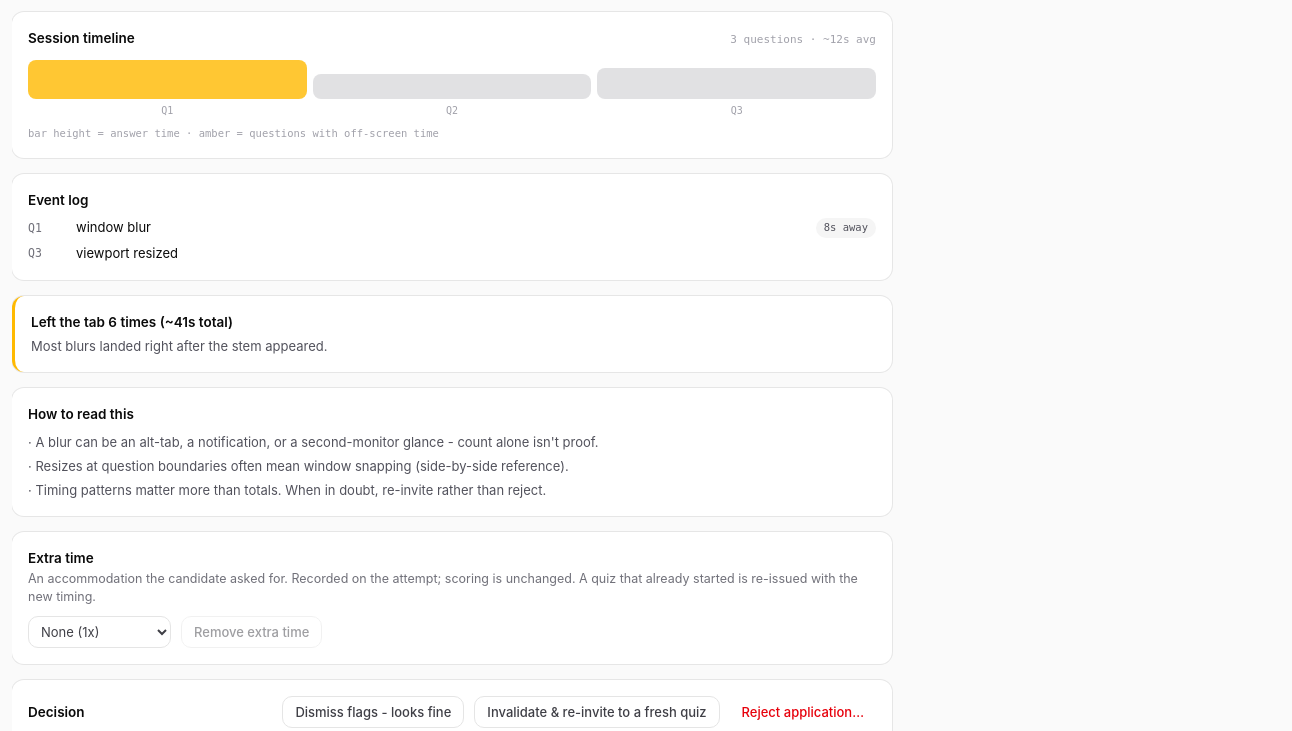
Test case: IntegrityReviewPage › grants extra time only after an explicit confirm
The width and height of the screenshot is (1292, 731).
(page scrolled)
Select "2x per question" in the dropdown named "Extra time" at (100, 632), box [28,616,171,648]
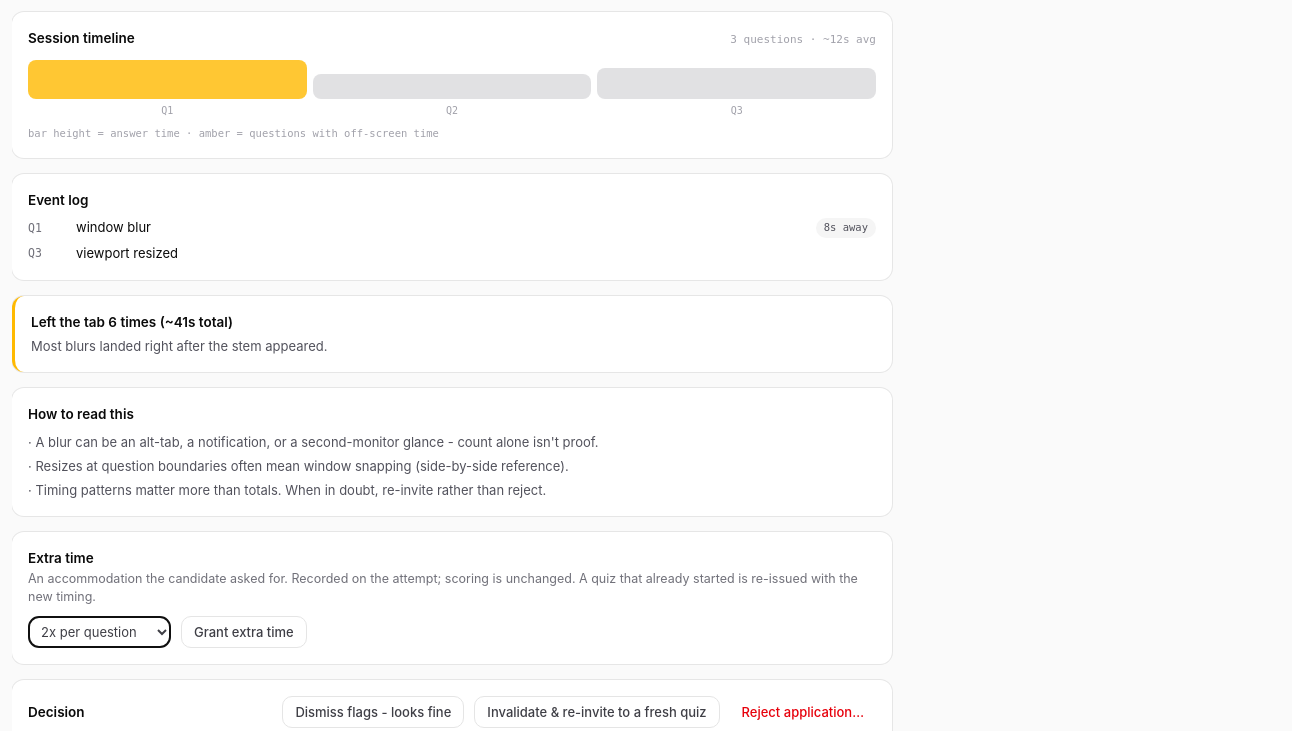
Click the button "Grant extra time" at (244, 632), box [181,616,307,648]
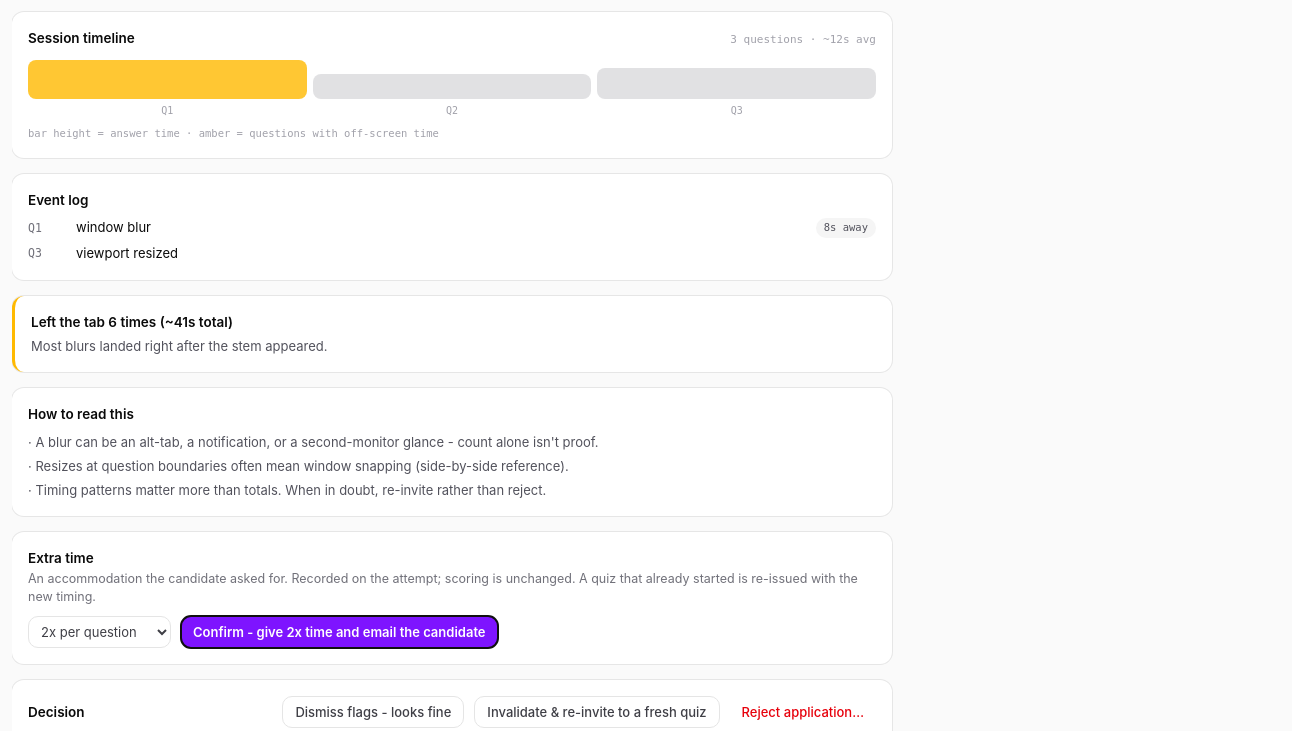
Click the button "Confirm - give 2x time and email the candidate" at (339, 632), box [181,616,498,648]
(page scrolled)
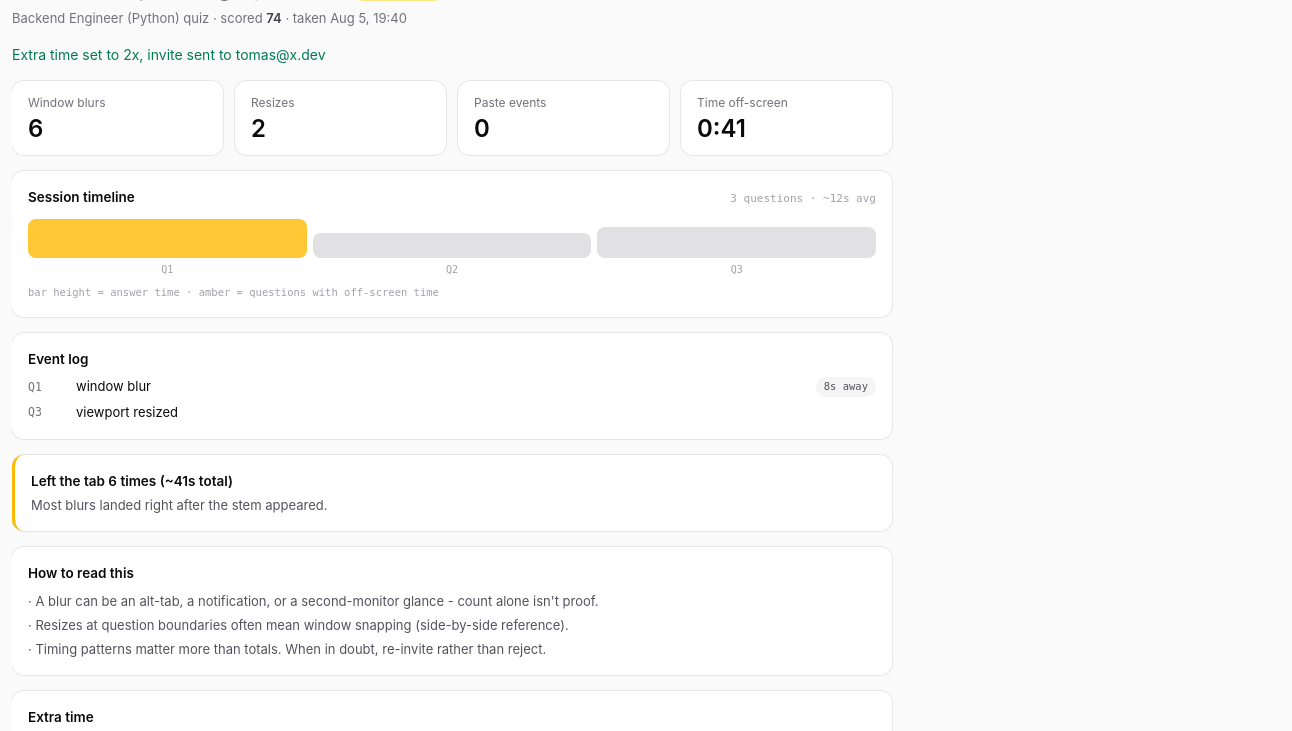
Expected: the message reads "Extra time set to 2x, invite sent to tomas@x.dev", [12,46,326,62]
